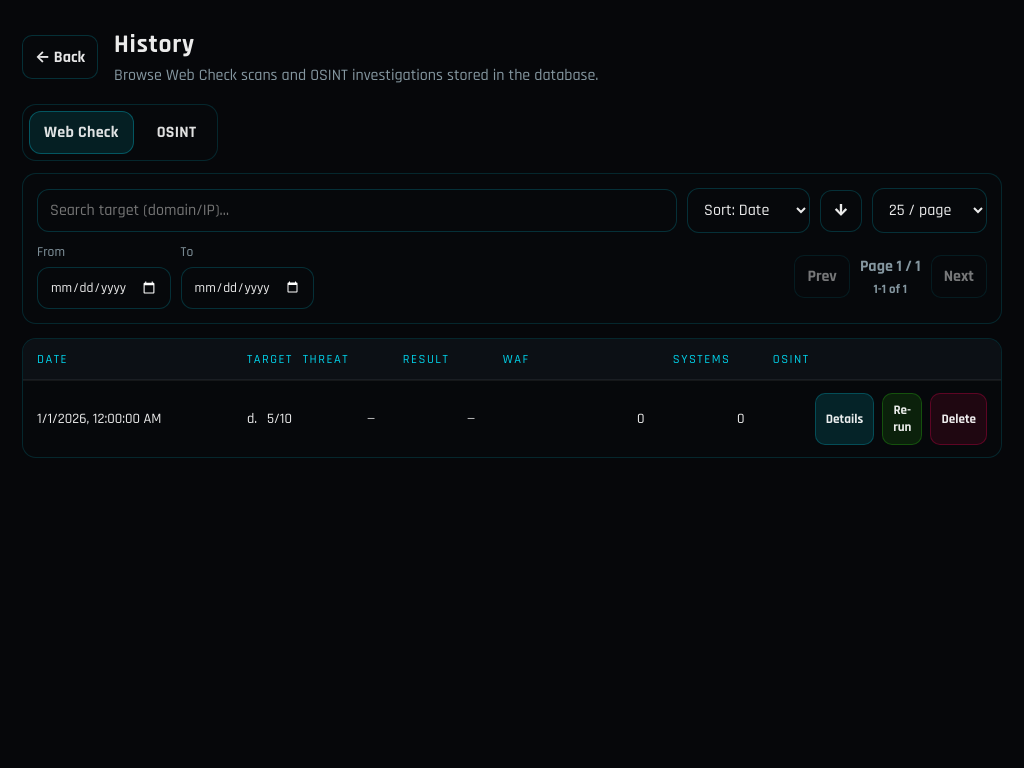
Test: HistoryPage › deletes scan row after confirmation
This screenshot has width=1024, height=768.
Expected: the text "delete-me.com" is shown, [247, 410, 257, 428]
Step 1. Click the button "Delete" → (959, 419), box [930, 393, 987, 445]
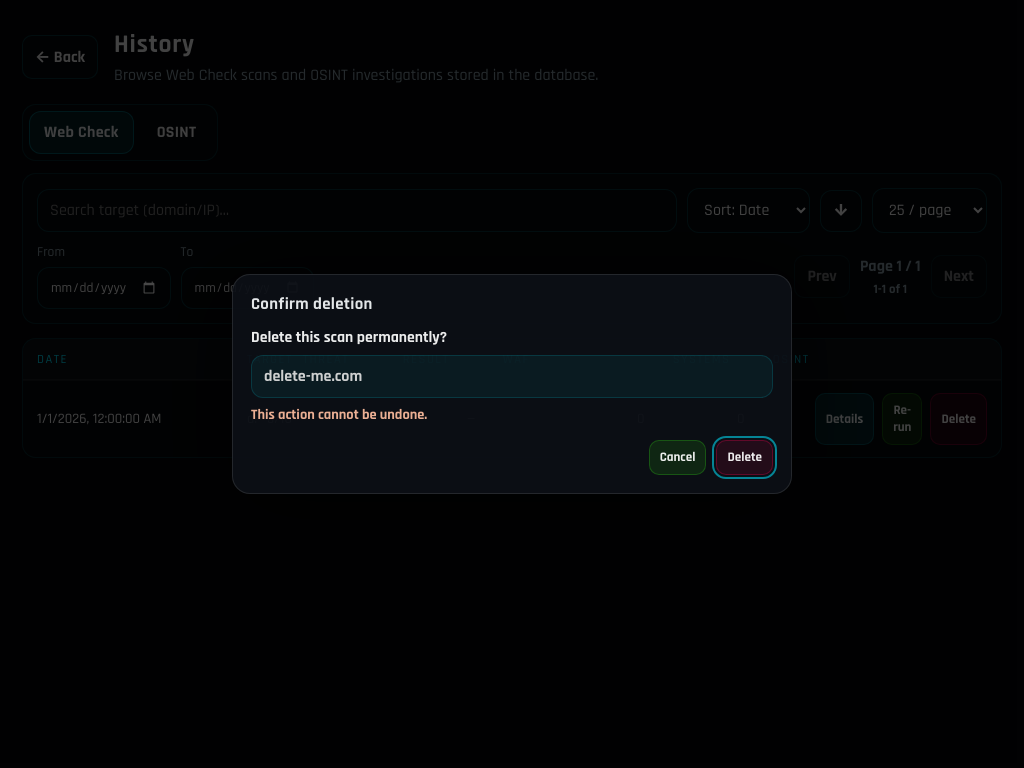
Step 2. Click the button "Delete" → (745, 458), box [716, 440, 773, 475]
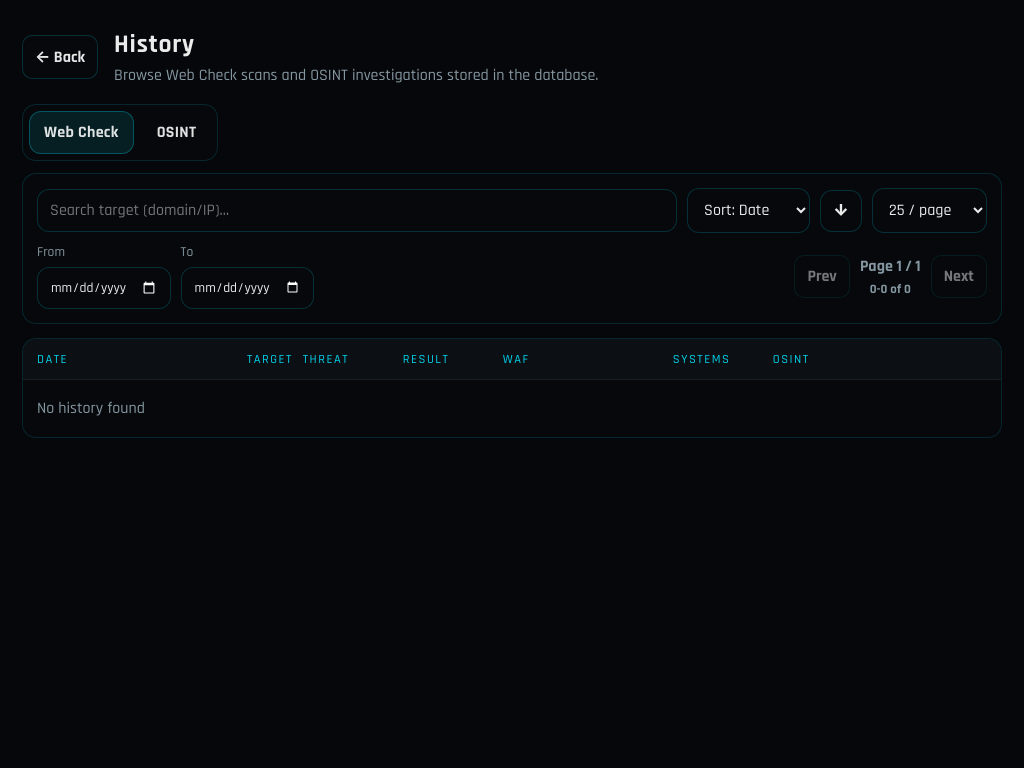
Result: the text "delete-me.com" is gone
